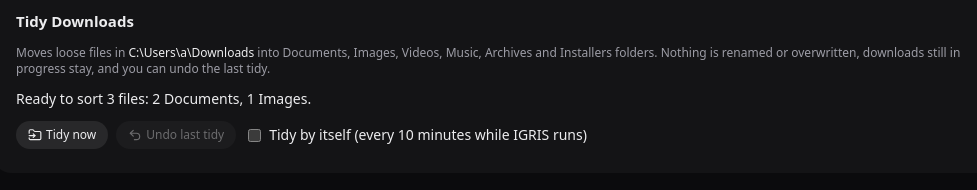
Scenario: tidy downloads › shows what would move, tidies, and can undo
Expected: the text "Ready to sort 3 files: 2 Documents, 1 Images." is shown, [16,89,311,108]
Click the button "Tidy now": (62,135) [16,121,108,149]
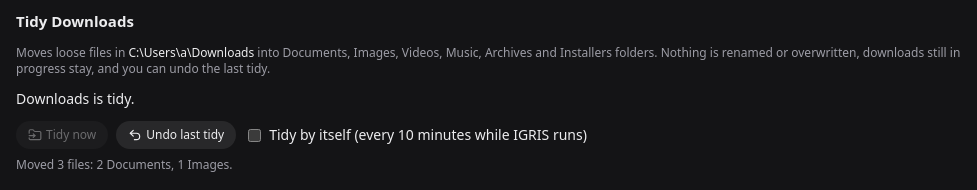
Now the text "Moved 3 files: 2 Documents, 1 Images." is shown, box [16,156,232,173]
Now the button "Undo last tidy" is enabled
Click the button "Undo last tidy": (176,135) [116,121,236,149]
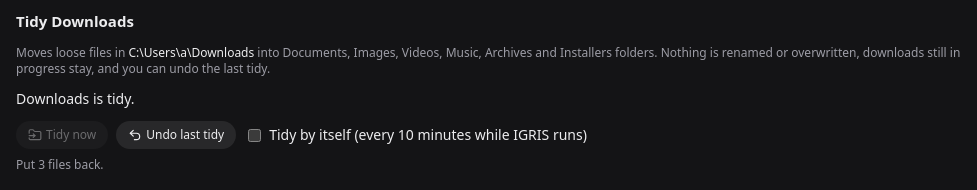
Now the text "Put 3 files back." is shown, box [16,156,104,173]
